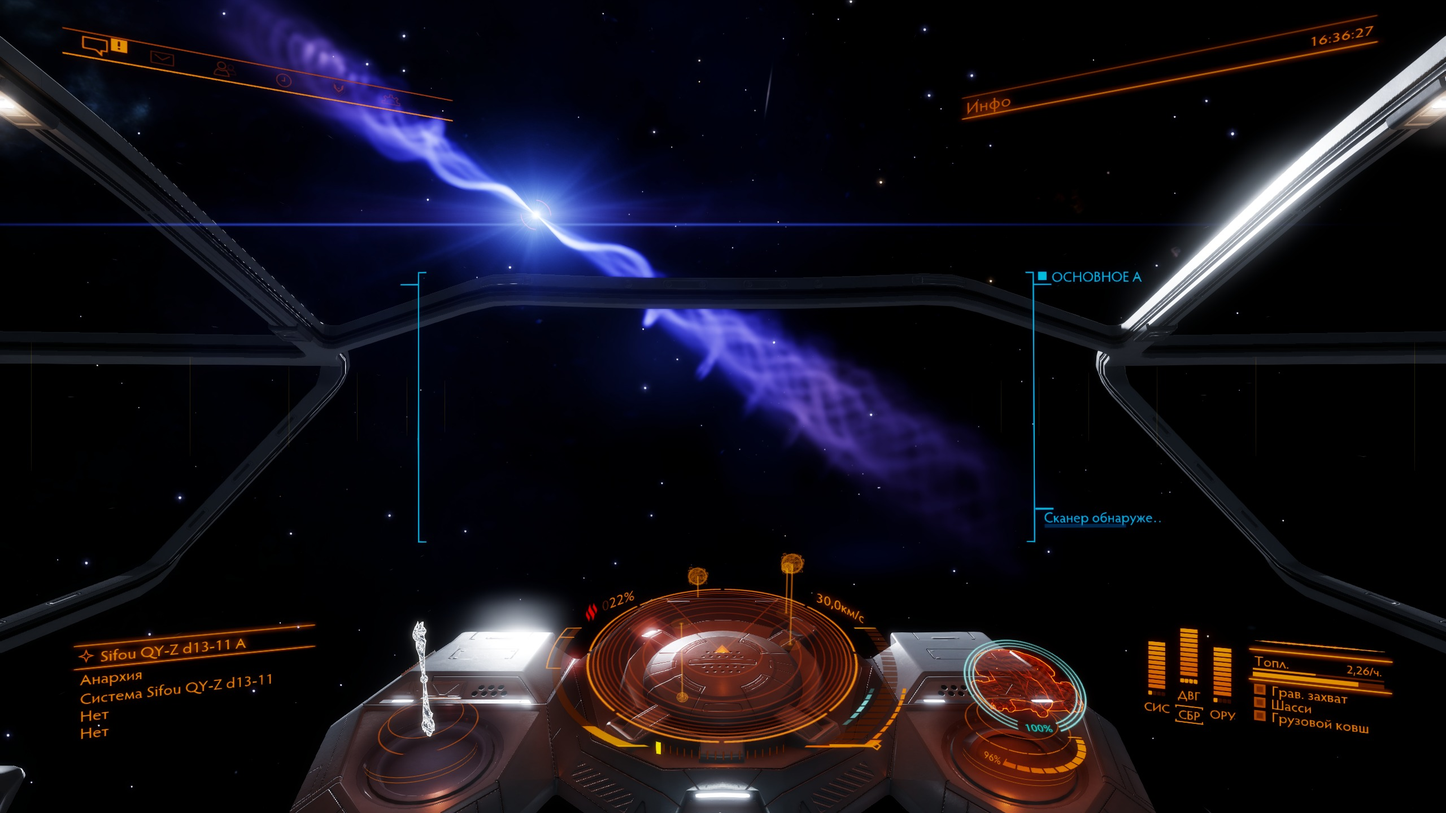jetcone: (561, 219, 998, 494)
